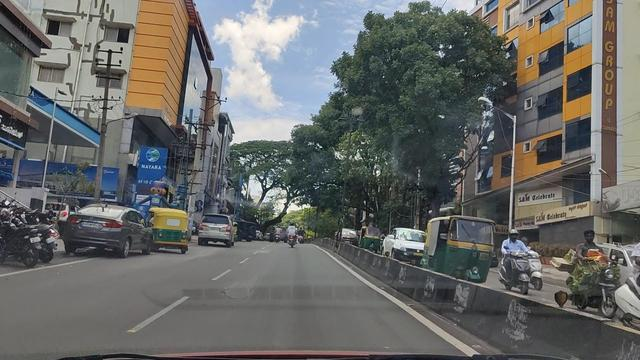LMV: (61, 203, 156, 259), (148, 210, 188, 253)
